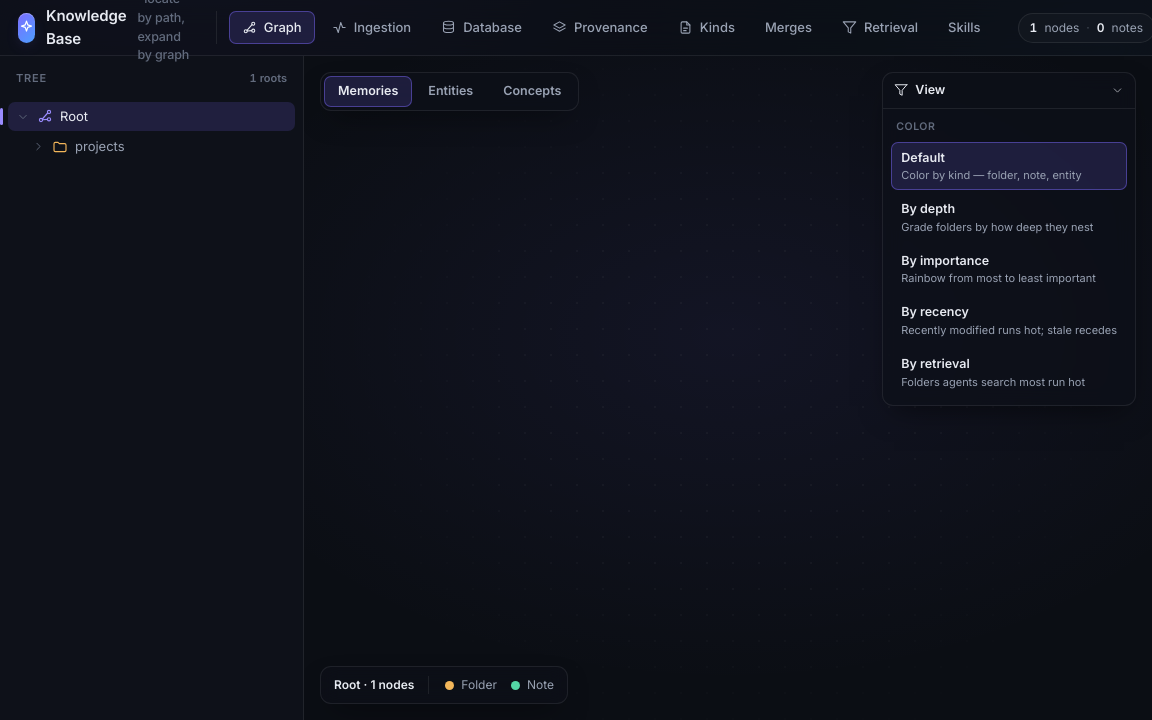
App › lists top-level concepts and opens the existing concept card
Click the button "Concepts" at (532, 91), box [489,76,575,107]
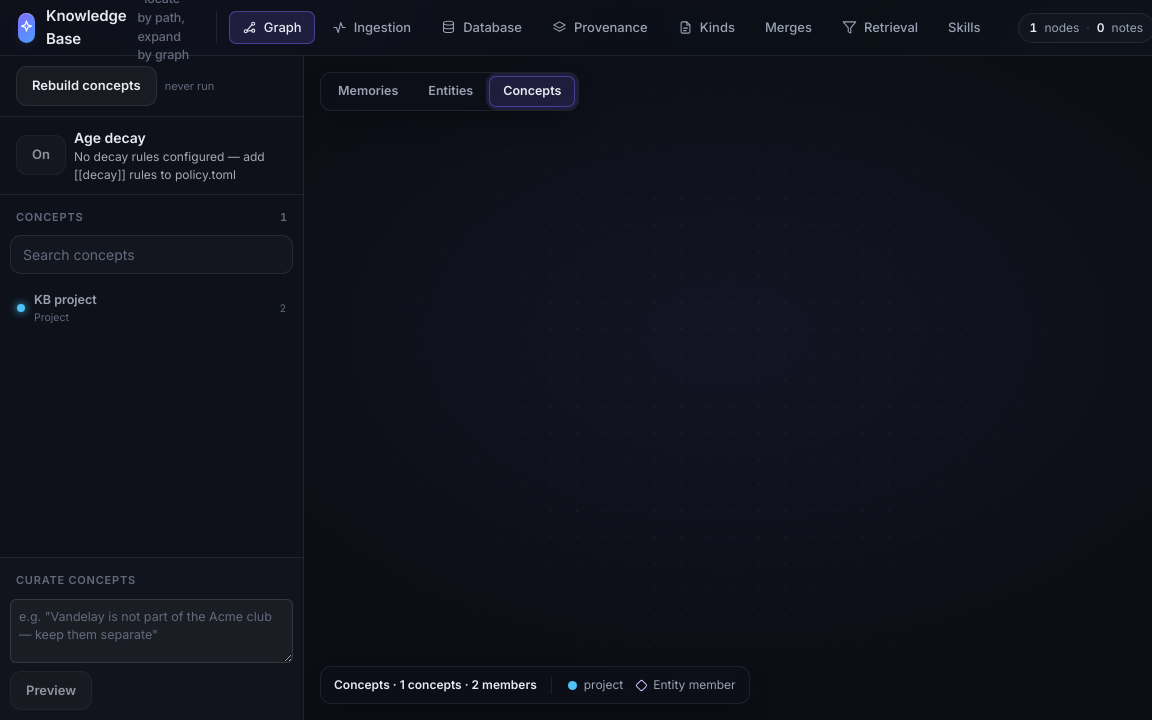
Click the button "KB project project 2" at (65, 300), box [8,282,295,334]
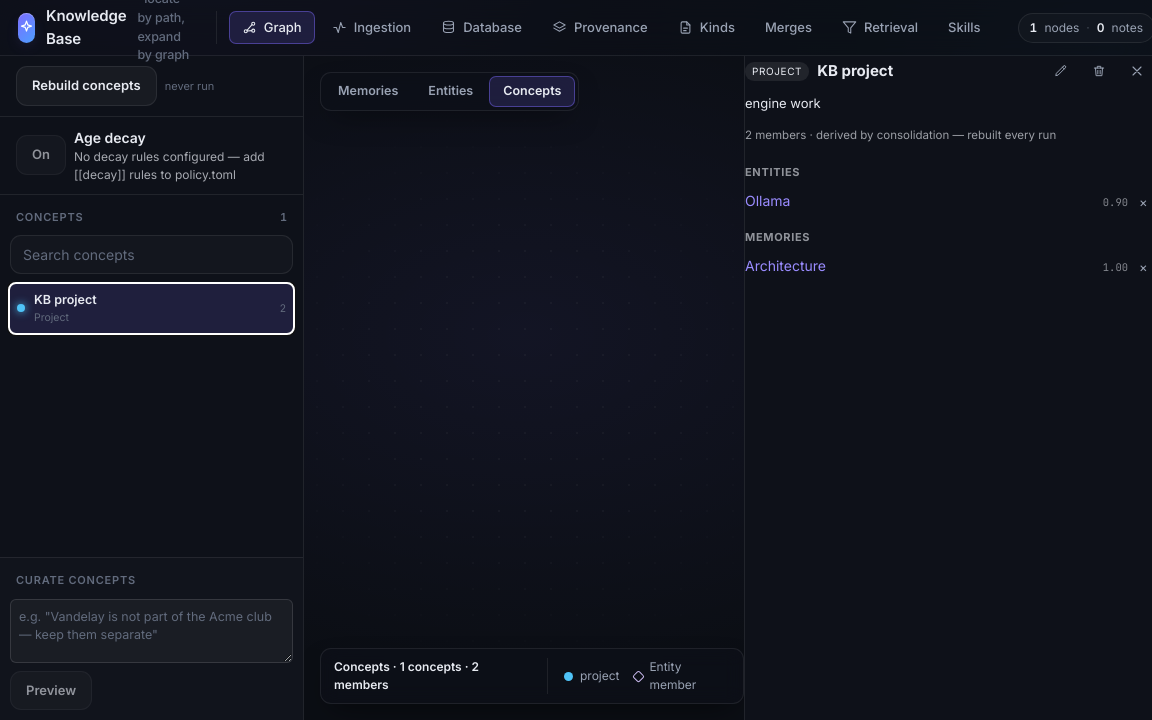
Now the text box named "Curation instruction" is shown, box [10,598,293,662]
Now the heading "KB project" is shown, box [817,61,893,80]
